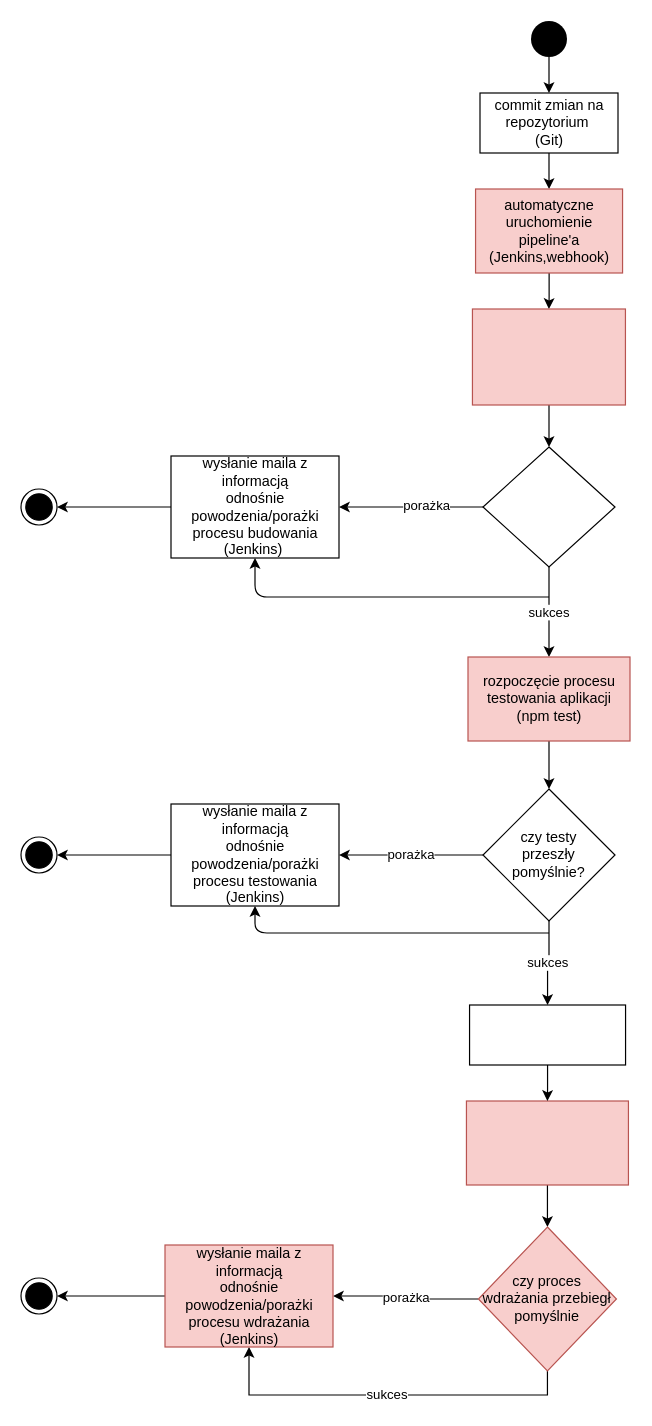
Some shapes in this 652 by 1426 pixel diagram are drawn without their labels. Each missing label, with the centre of its shape:
"czy udało się zbudować?" goes at (x=548, y=506).
"rozpoczęcie procesu budowania aplikacji (npm install)" goes at (x=548, y=356).
"rozpoczęcie procesu wdrażania aplikacji na dedykowany kontener (docker build)" goes at (x=546, y=1142).
"stworzenie artefaktów" goes at (x=547, y=1034).
